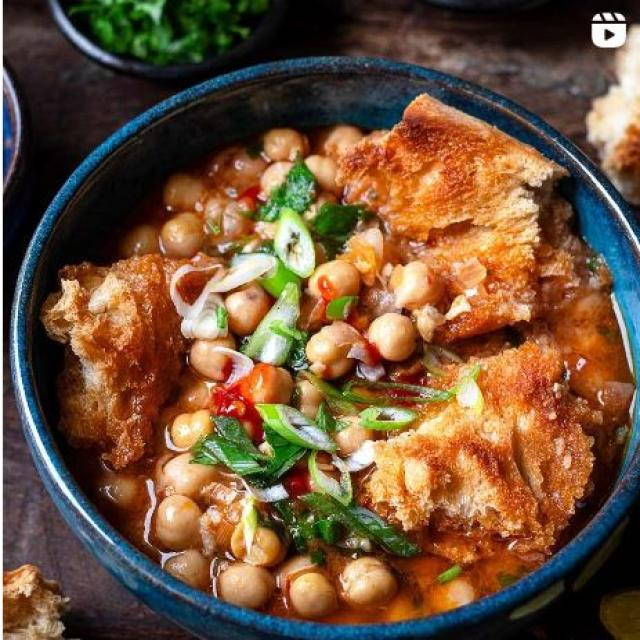Lablabi: (71, 65, 634, 576)
